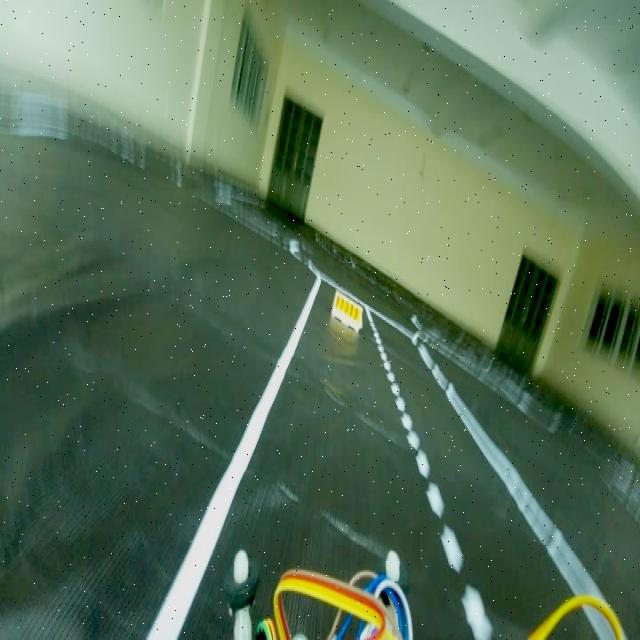roadblock: (329, 284, 366, 340)
